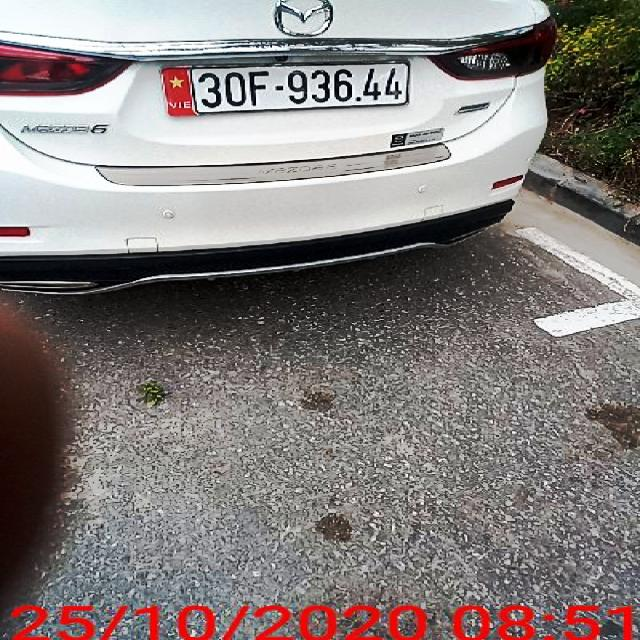license_plate: (161, 62, 417, 117)
